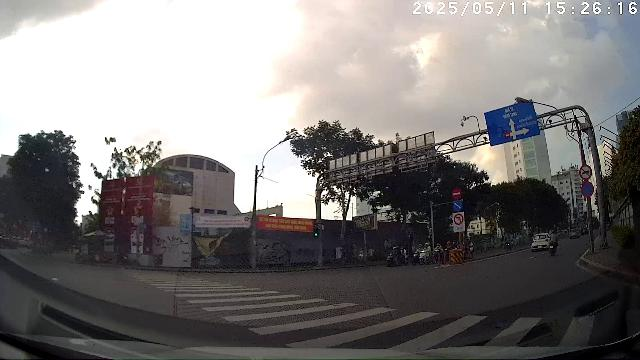102-cam-di-nguoc-chieu: (451, 188, 462, 199)
123a-cam-re-trai: (453, 213, 464, 226)
131a-cam-do-xe: (580, 181, 594, 198)
302a-huong-phai-di-vong-chuong-ngai-vat-1: (453, 199, 463, 211)
